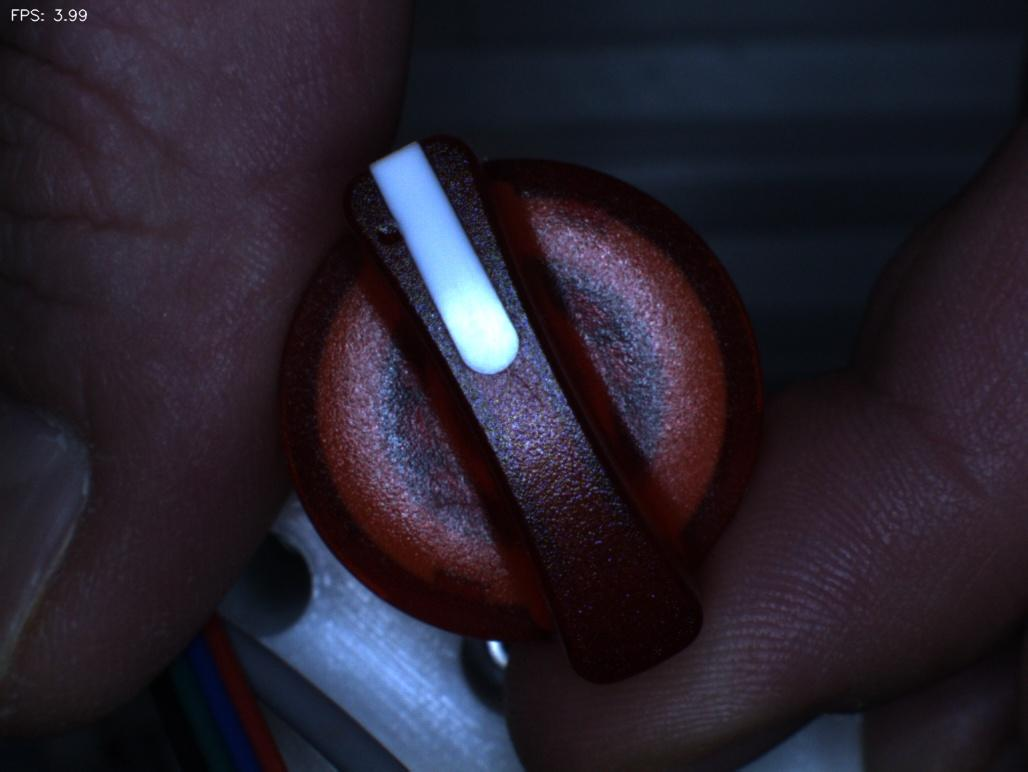Choc: (328, 187, 443, 272)
